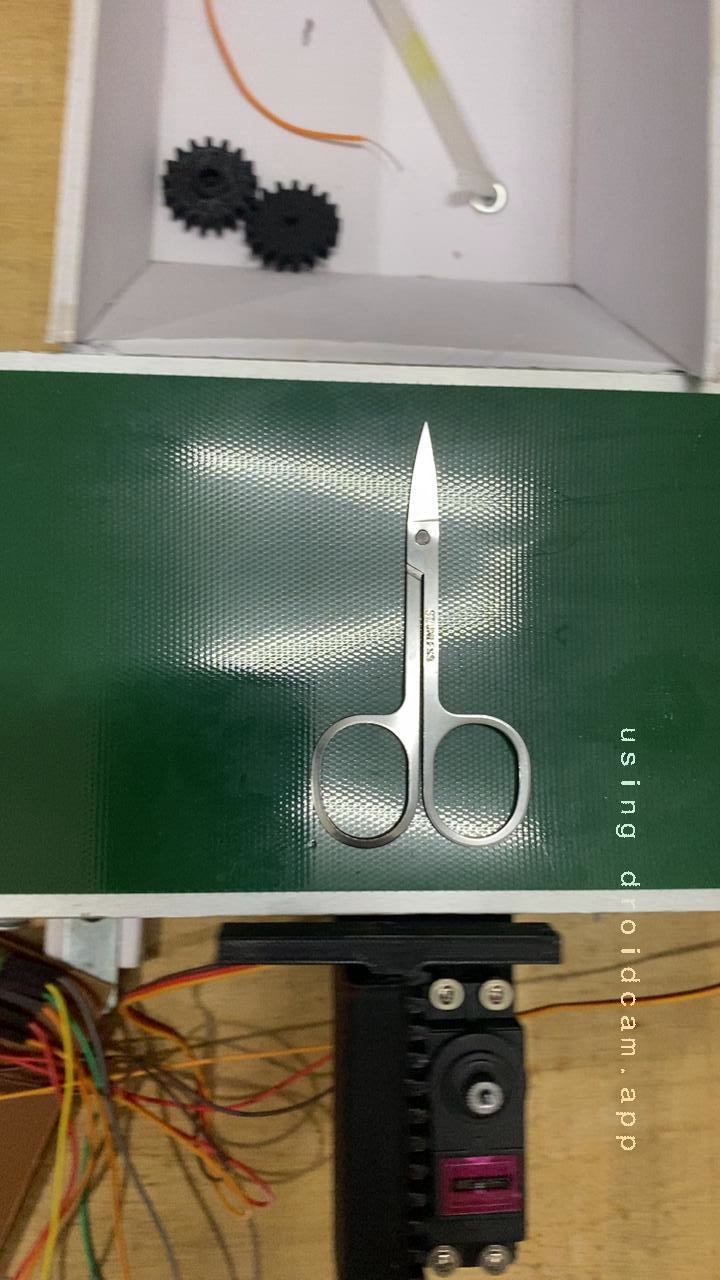scissor: (244, 418, 552, 872)
